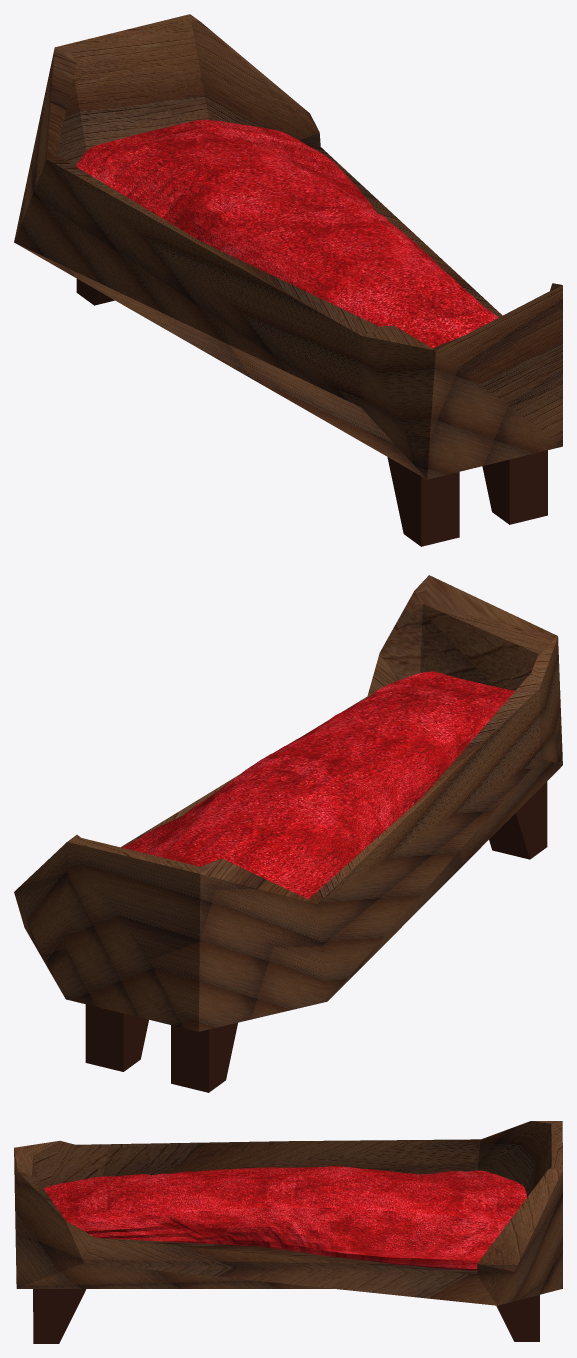
File: camaa.obj
3 renders of one model, top to bottom at view 1: azimuth 30°, elevation 25°; view 2: azimuth 150°, elevation 25°; view 3: azimuth 270°, elevation 25°, orthographic. The views are drawn at different scales.
Visible parts, largest first — view 1: cama_Cube, colchon_Cube.007; view 2: cama_Cube, colchon_Cube.007; view 3: cama_Cube, colchon_Cube.007.
Part boxes in pixels (x1,y1,x2,y2): cama_Cube: [14, 14, 562, 546]; colchon_Cube.007: [75, 119, 498, 348]; cama_Cube: [14, 575, 562, 1092]; colchon_Cube.007: [122, 671, 514, 899]; cama_Cube: [14, 1121, 562, 1343]; colchon_Cube.007: [43, 1166, 526, 1270].
Size of the model in its own units: 3.7 by 2.72 by 7.73.
Materials: 2 (2 with a texture image).
